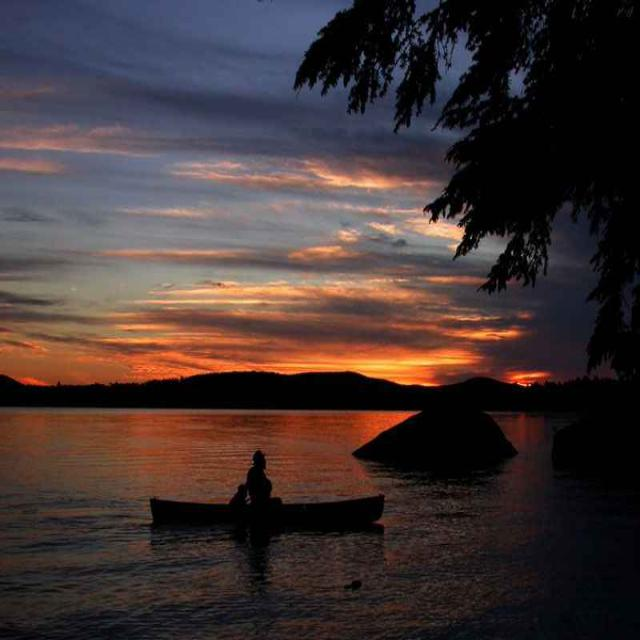Boat: (124, 473, 386, 546), (357, 405, 531, 485)
